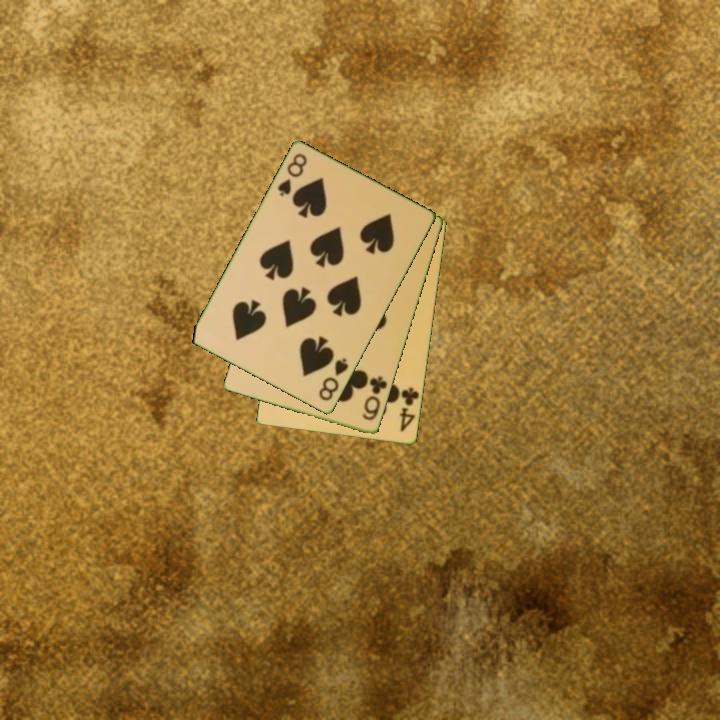4c: (396, 384, 422, 435)
6c: (359, 373, 390, 424)
8s: (315, 355, 352, 404), (274, 150, 310, 200)
